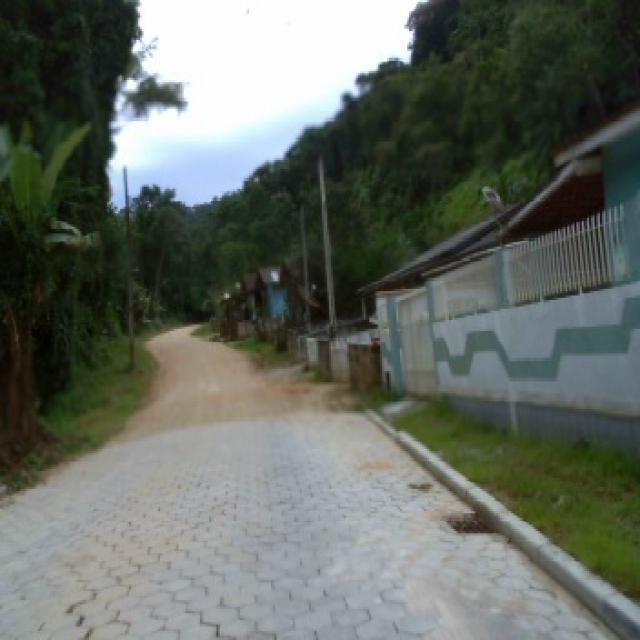Poth-hole: (442, 508, 498, 534)
